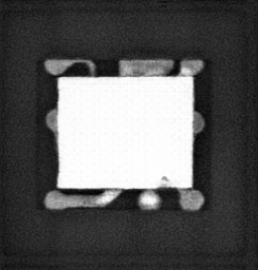DIE_INK: (158, 174, 170, 181)
